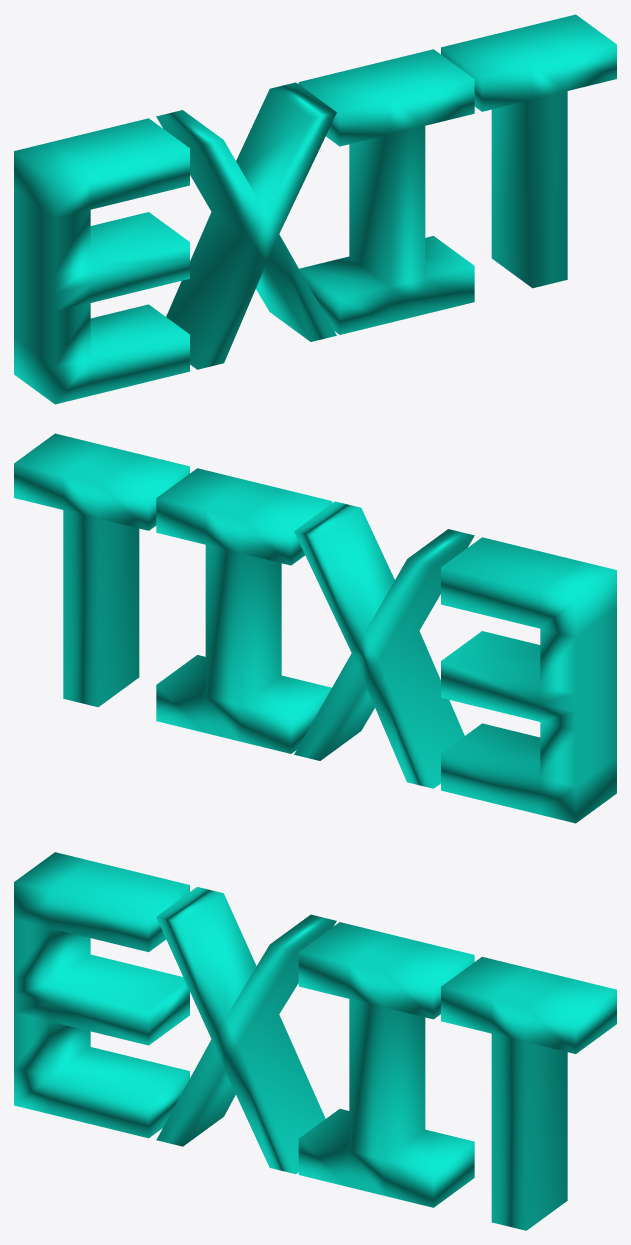
Rendered from Exit.fbx.
3 views of the same model, one above another, from view 1: azimuth 30°, elevation 25°; view 2: azimuth 150°, elevation 25°; view 3: azimuth 330°, elevation 25° (orthographic).
Visible parts, largest first — view 1: pCube3, pCube19, pCube23, pCube26; view 2: pCube3, pCube19, pCube23, pCube26; view 3: pCube3, pCube19, pCube23, pCube26.
Part boxes in pixels (x1,y1,x2,y2): pCube3: (14,118,189,404); pCube19: (298,49,474,334); pCube23: (156,82,336,369); pCube26: (441,14,616,288); pCube3: (441,537,616,823); pCube19: (156,468,332,753); pCube23: (294,501,474,788); pCube26: (14,433,189,707); pCube3: (14,852,189,1138); pCube19: (298,922,474,1207); pCube23: (156,887,336,1174); pCube26: (441,957,616,1230).
Bounding box in the file's own units: 7.9 × 3 × 1.
